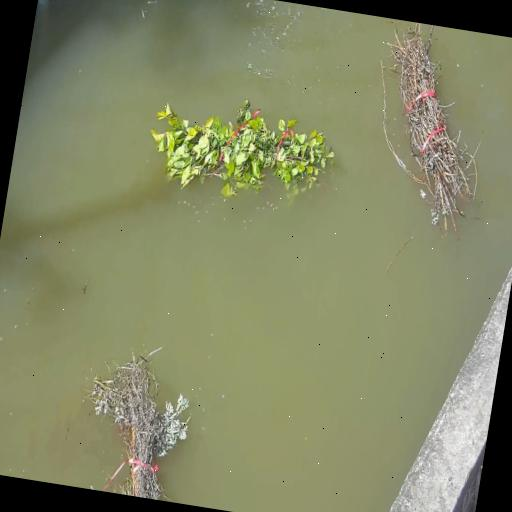twig: (355, 18, 504, 232), (144, 84, 348, 216), (74, 333, 208, 504)
